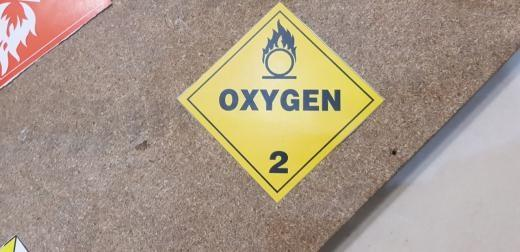flammable: (1, 1, 117, 95)
oxidizer: (181, 2, 384, 203)
